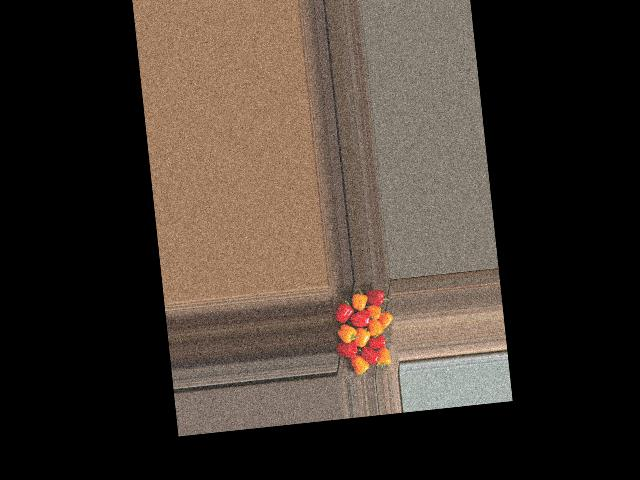bell_pepper: (346, 349, 370, 376)
